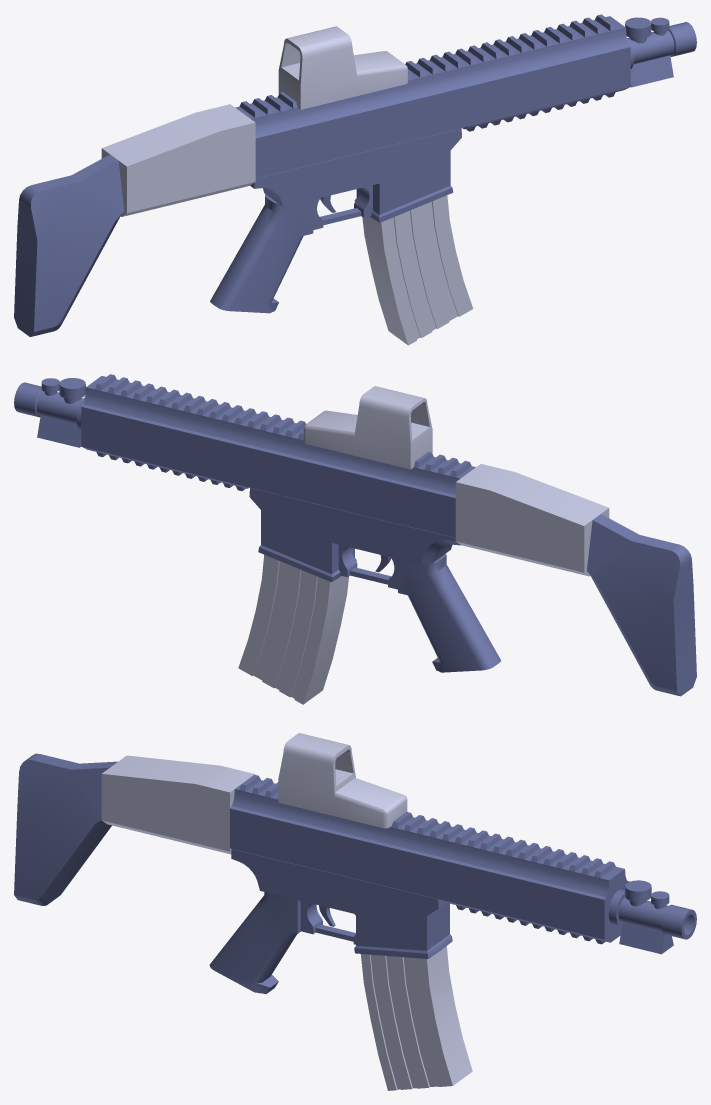
The picture shows the model from 3 angles, top to bottom: view 1: azimuth 30°, elevation 25°; view 2: azimuth 150°, elevation 25°; view 3: azimuth 330°, elevation 25°; orthographic projection.
Visible parts, largest first — view 1: MG7; view 2: MG7; view 3: MG7.
Part boxes in pixels (x1,y1,x2,y2): MG7: [14, 14, 696, 345]; MG7: [14, 374, 696, 704]; MG7: [14, 733, 696, 1090].
Size of the model in its own units: 57.89 by 26.67 by 3.79.
